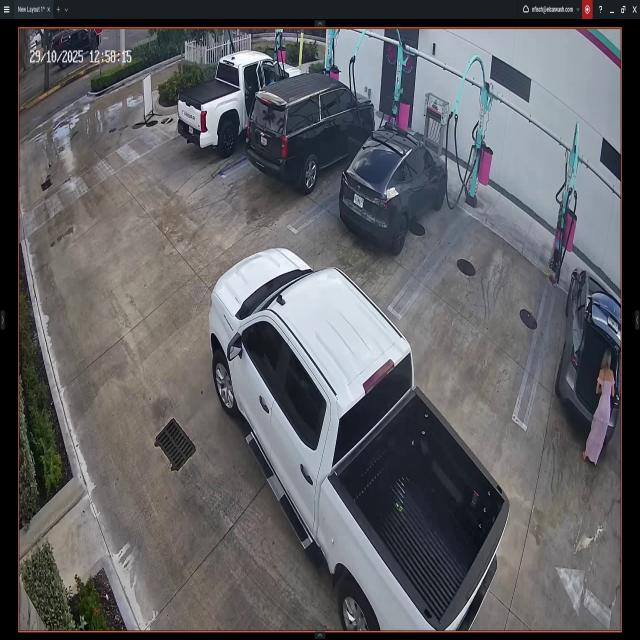Car: (205, 245, 510, 630), (243, 72, 375, 189), (341, 125, 446, 249), (176, 50, 299, 147), (556, 268, 621, 440)
